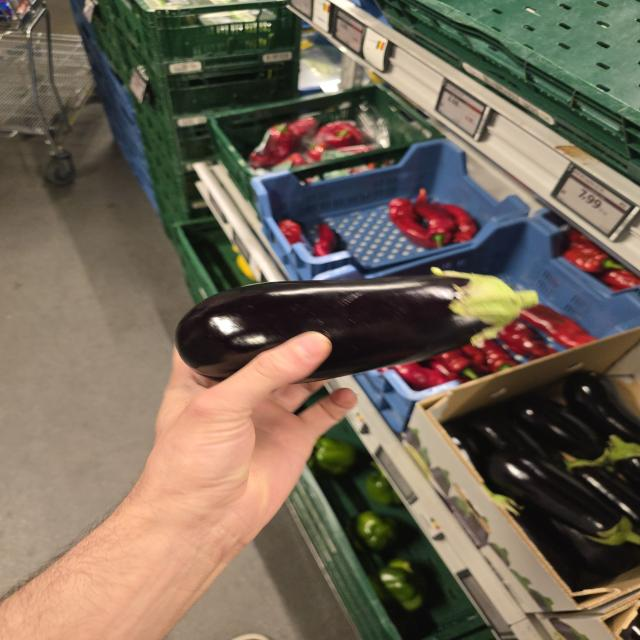Eggplant: (175, 267, 536, 388)
